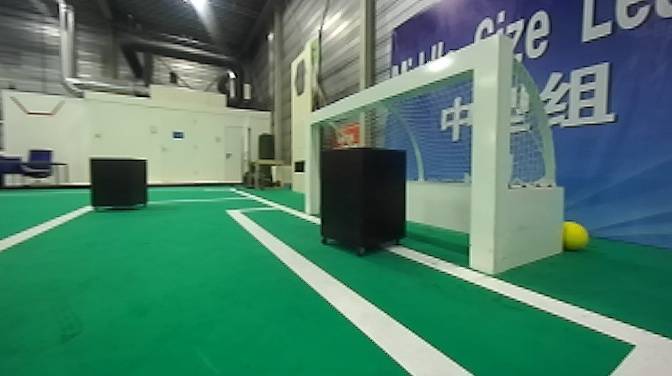ball: (557, 213, 590, 249)
goalpost: (470, 39, 511, 273), (303, 114, 327, 223)
